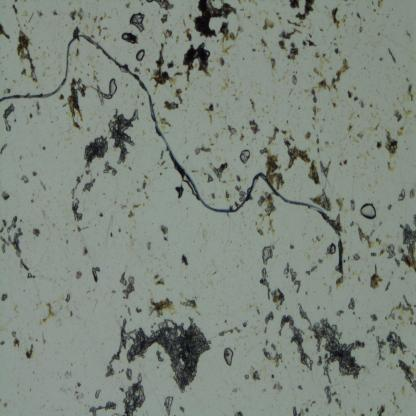Air bubble: (360, 203, 377, 221), (130, 12, 145, 32), (260, 245, 273, 266), (222, 347, 236, 366), (107, 77, 118, 96), (240, 148, 250, 164), (136, 48, 146, 62), (121, 32, 129, 42), (330, 242, 336, 255)
Background material: (104, 315, 212, 392), (312, 318, 366, 381), (278, 313, 314, 372), (107, 106, 138, 166), (150, 30, 176, 98), (193, 0, 236, 38), (396, 212, 416, 278), (182, 43, 214, 83), (82, 134, 110, 175), (16, 32, 38, 84), (260, 144, 285, 189), (121, 374, 146, 416), (317, 59, 350, 90), (0, 214, 23, 258), (254, 190, 276, 236), (384, 295, 416, 326), (68, 78, 84, 130), (350, 221, 375, 250), (384, 329, 409, 358), (285, 143, 312, 168), (383, 131, 399, 173), (397, 358, 416, 393), (276, 27, 302, 52), (148, 295, 176, 318), (282, 262, 301, 294), (310, 188, 333, 213), (71, 172, 82, 220), (219, 22, 243, 44), (118, 270, 136, 299), (375, 238, 398, 260), (313, 49, 331, 77), (396, 107, 412, 138), (91, 13, 110, 39), (258, 266, 271, 302), (38, 302, 58, 324), (90, 400, 117, 416), (309, 88, 319, 131), (92, 83, 112, 104), (324, 385, 342, 408), (262, 348, 282, 368), (201, 101, 215, 128), (136, 173, 154, 194), (3, 104, 16, 133), (374, 333, 386, 364), (345, 90, 364, 109), (368, 266, 383, 290), (294, 2, 314, 20), (271, 286, 285, 311), (145, 1, 176, 12), (212, 161, 228, 182), (263, 310, 276, 335), (306, 256, 324, 274), (308, 159, 320, 185), (104, 216, 114, 246), (217, 326, 241, 338), (12, 4, 22, 32), (287, 42, 300, 62), (74, 380, 85, 403), (82, 176, 96, 194), (180, 296, 198, 310), (244, 368, 262, 382), (330, 7, 341, 29), (128, 202, 142, 219), (291, 404, 310, 416), (70, 6, 83, 23), (152, 271, 165, 288), (320, 160, 332, 178), (268, 126, 280, 144), (346, 110, 353, 140), (104, 160, 118, 175), (405, 83, 416, 102), (164, 396, 174, 416), (354, 11, 363, 33), (158, 116, 172, 130), (280, 129, 295, 142), (174, 87, 184, 106), (249, 118, 260, 135), (262, 17, 275, 31), (11, 330, 21, 348), (391, 108, 403, 123), (175, 182, 185, 200), (160, 225, 170, 243), (387, 46, 397, 64), (24, 342, 34, 360), (347, 296, 356, 315), (0, 23, 10, 40), (221, 78, 234, 91), (164, 99, 178, 111), (335, 196, 345, 212), (91, 266, 101, 282), (286, 18, 302, 28), (220, 43, 233, 55), (226, 126, 237, 140), (348, 196, 357, 213), (159, 149, 167, 167), (193, 146, 211, 154), (156, 348, 165, 364), (335, 274, 344, 290), (183, 27, 193, 41), (302, 38, 316, 48), (0, 289, 9, 304), (397, 187, 406, 202), (353, 131, 365, 142), (375, 404, 387, 415), (270, 56, 277, 74), (91, 69, 100, 83), (224, 188, 233, 202), (218, 55, 227, 69), (31, 225, 40, 239), (238, 189, 246, 204), (332, 46, 342, 58), (369, 312, 379, 324), (0, 189, 10, 201), (260, 38, 270, 50), (20, 259, 30, 271), (273, 382, 283, 394), (125, 366, 132, 382), (180, 253, 188, 267), (35, 102, 43, 116), (64, 292, 72, 306), (352, 252, 363, 262), (334, 309, 346, 318), (75, 225, 90, 232), (39, 178, 46, 193), (290, 74, 298, 87), (304, 131, 314, 141), (366, 324, 376, 334), (75, 269, 84, 280), (0, 142, 7, 156), (72, 26, 80, 38), (81, 244, 89, 256), (206, 173, 214, 185), (166, 59, 174, 71), (249, 99, 256, 112), (160, 14, 168, 25), (315, 136, 320, 153), (94, 386, 100, 400), (385, 280, 392, 292), (21, 175, 29, 185), (234, 408, 244, 416), (290, 2, 300, 10), (408, 187, 414, 200), (173, 71, 184, 78), (296, 383, 305, 391), (235, 185, 244, 193), (74, 47, 80, 59), (26, 271, 35, 279), (20, 67, 28, 76), (376, 140, 383, 150), (145, 240, 151, 251), (134, 307, 142, 315), (181, 18, 187, 28), (179, 406, 186, 414), (37, 10, 44, 18), (242, 320, 249, 328), (31, 169, 38, 177), (134, 66, 141, 74), (240, 131, 245, 142), (3, 88, 12, 94), (388, 202, 393, 212), (236, 174, 241, 184), (378, 2, 384, 10), (52, 10, 58, 18), (210, 192, 216, 200), (83, 25, 89, 32), (58, 94, 64, 101), (28, 112, 34, 119), (22, 11, 28, 18), (289, 244, 294, 252), (271, 344, 276, 352), (264, 340, 269, 348), (0, 340, 6, 346), (119, 386, 125, 392), (98, 212, 103, 219)
Cotton: (0, 33, 345, 275)
Diatom: (77, 77, 87, 96), (370, 251, 377, 258)
